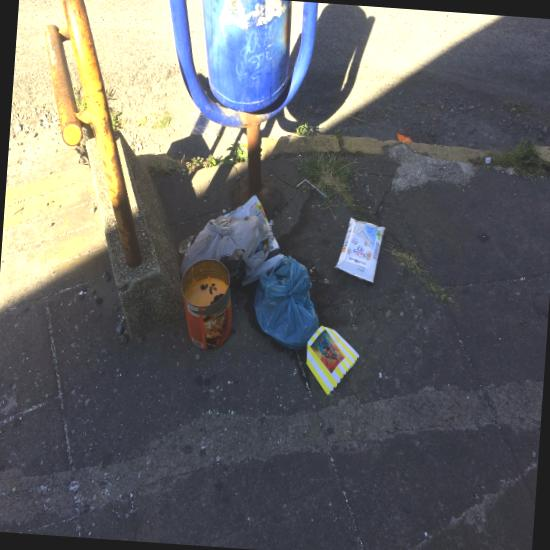Drink carton: (334, 217, 385, 282)
Food Can: (180, 259, 232, 349)
Meal carton: (306, 325, 359, 395)
Other plastic bottle: (396, 132, 411, 143)
Plastic film: (242, 235, 283, 286), (223, 195, 269, 225)
Plastic straw: (296, 179, 327, 197)
Single-use carrier bag: (179, 215, 273, 288), (253, 255, 318, 349)
